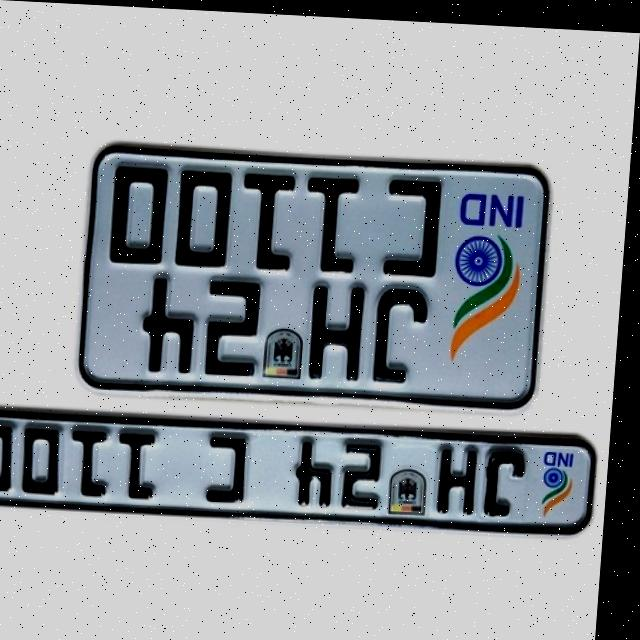plate: (73, 131, 564, 416), (0, 403, 605, 534)
